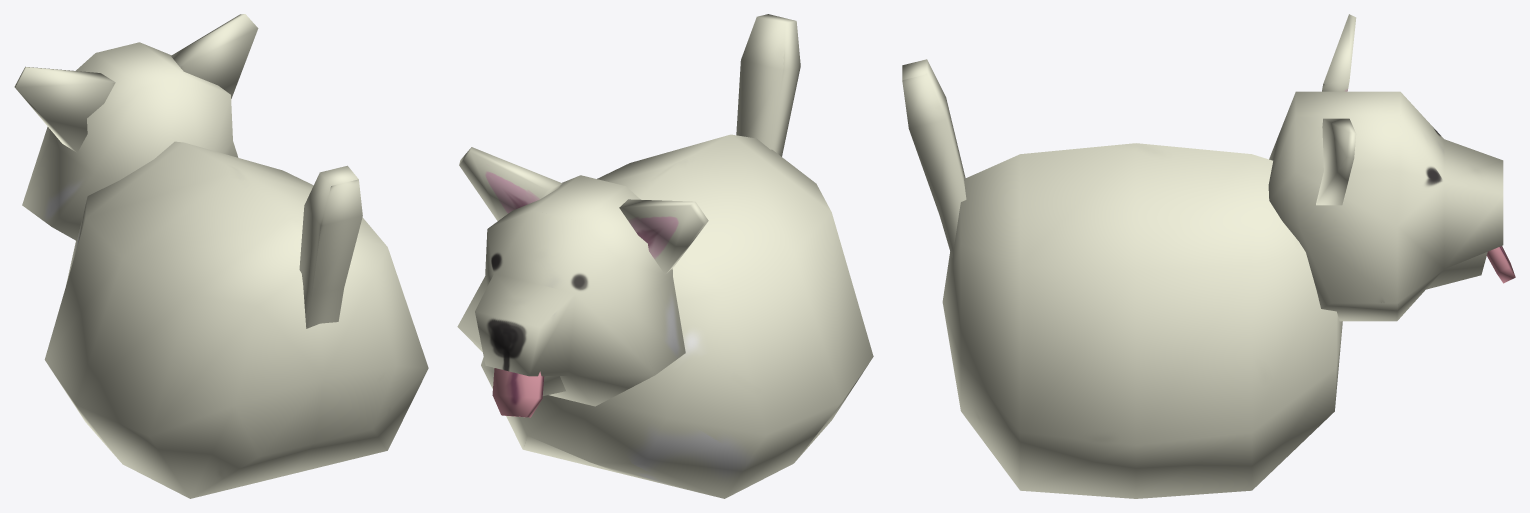
File: FluffyDog.fbx
3 views of the same model, side by side, from view 1: azimuth 30°, elevation 25°; view 2: azimuth 150°, elevation 25°; view 3: azimuth 270°, elevation 25° (orthographic). The views are drawn at different scales.
Visible parts, largest first — view 1: FluffyDog; view 2: FluffyDog; view 3: FluffyDog.
Boxes of the visible parts, x1,y1,x2,y2 form: FluffyDog: [14, 14, 428, 498]; FluffyDog: [457, 14, 873, 498]; FluffyDog: [902, 14, 1515, 498].
Bounding box in the file's own units: 1.02 × 1.01 × 1.52.
